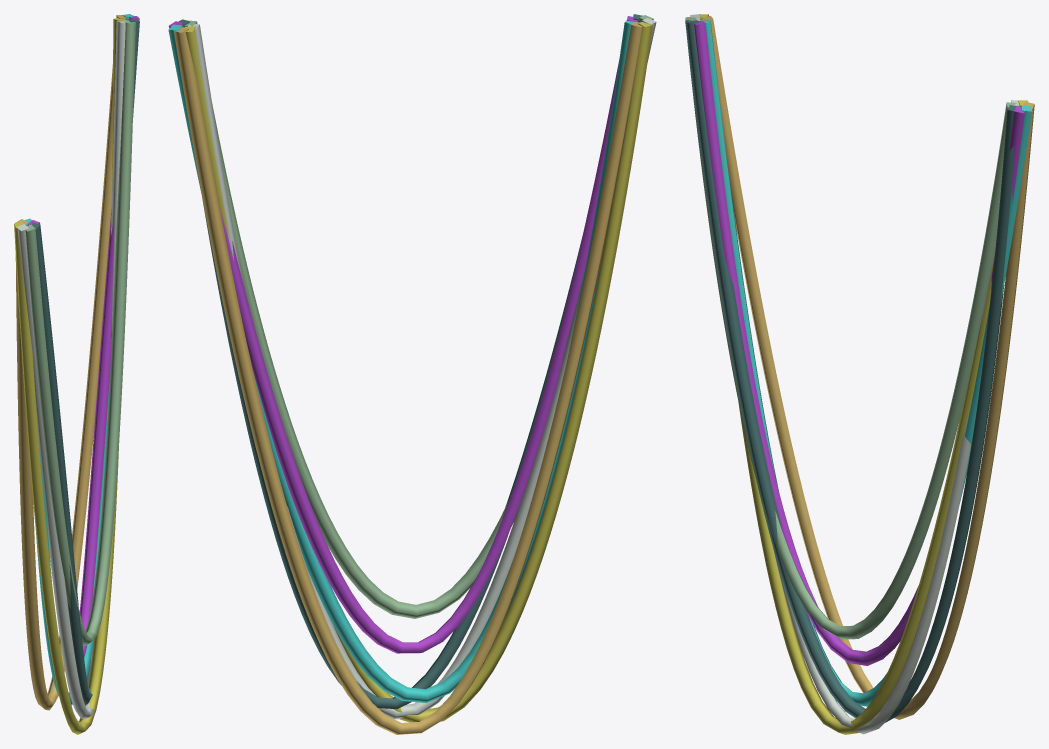
File: cables_hallway.fbx
The picture shows the model from 3 angles, left to right: view 1: azimuth 30°, elevation 25°; view 2: azimuth 150°, elevation 25°; view 3: azimuth 270°, elevation 25°; orthographic projection. The views are drawn at different scales.
Parts seen in each view (by area): view 1: GeoCables.001; view 2: GeoCables.001; view 3: GeoCables.001.
Part boxes in pixels (box(x1,y1,x2,y2)): GeoCables.001: box(14, 14, 139, 734); GeoCables.001: box(168, 14, 656, 734); GeoCables.001: box(685, 14, 1034, 734).
Bounding box in the file's own units: 81.44 × 182 × 82.9.
